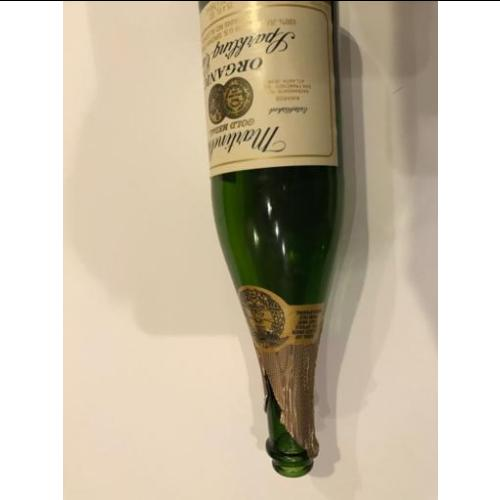glass: (206, 2, 344, 477)
